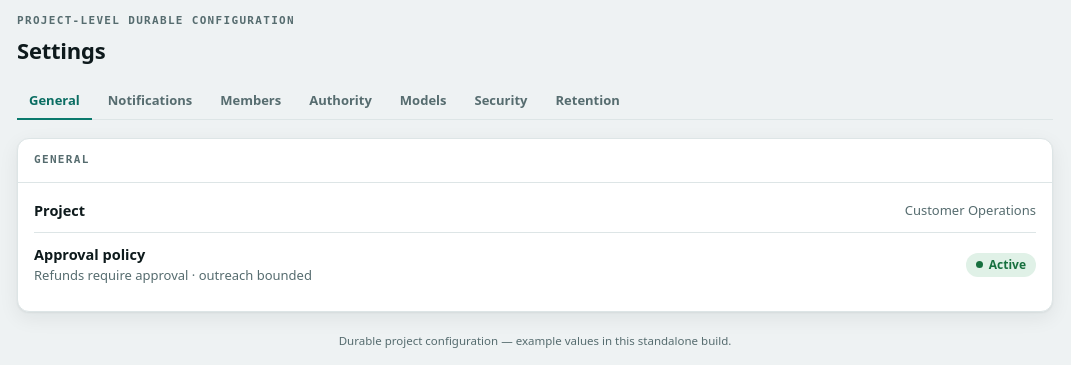
Scenario: Settings (project-level durable configuration) › shows General by default and switches to Security
Expected: the text "Customer Operations" is shown, [905,201,1036,220]
// switching to Security reveals the credential broker row
Click the tab "Security".
click(501, 101)  # box [462,82,540,120]
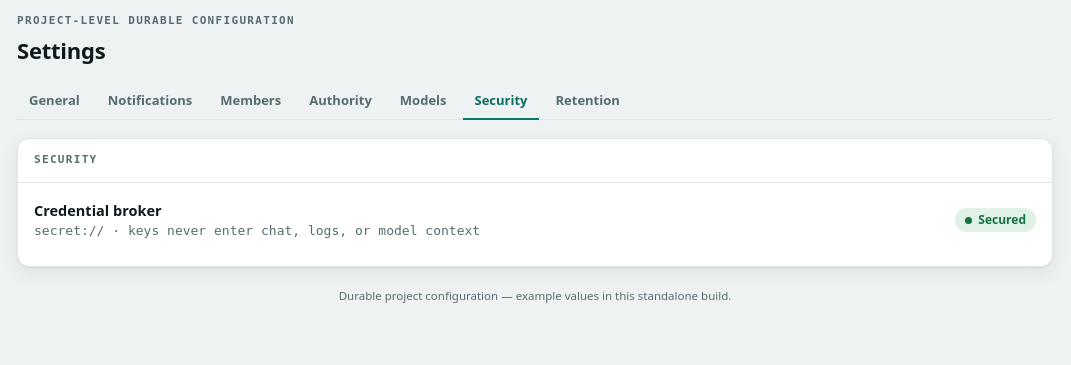
Now the text "Credential broker" is shown, box [34,200,162,220]
